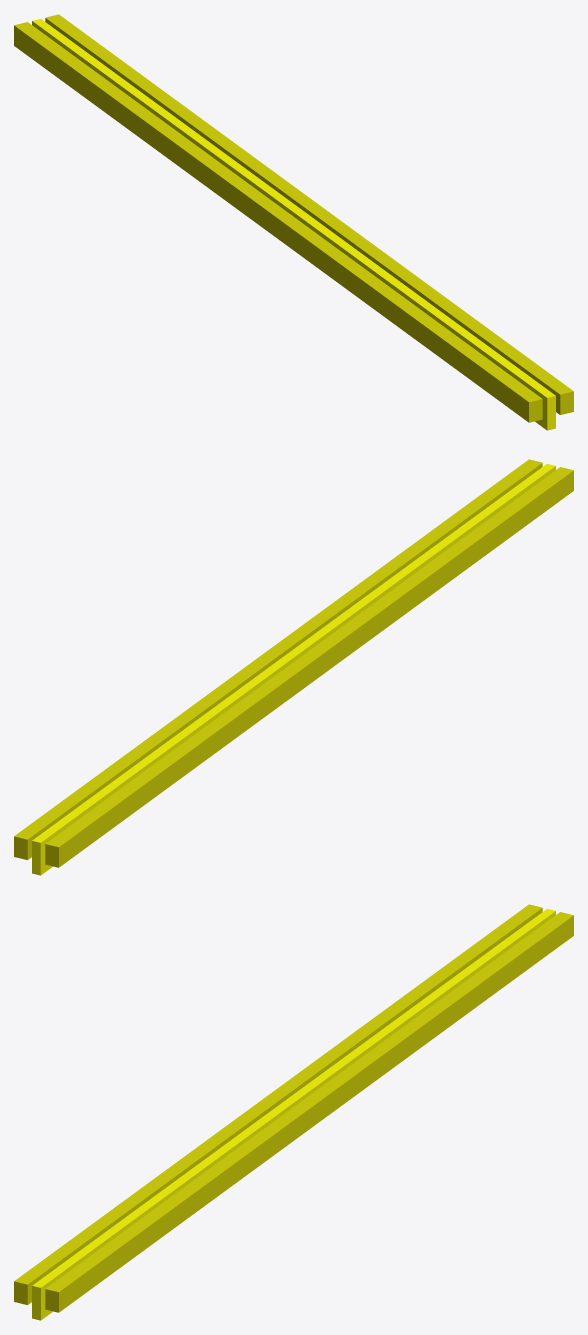
Rendered from BEAM_8008.glb.
3 renders of one model, top to bottom at view 1: azimuth 30°, elevation 25°; view 2: azimuth 150°, elevation 25°; view 3: azimuth 330°, elevation 25°, orthographic.
Parts seen in each view (by area): view 1: obj2, obj1; view 2: obj2, obj1; view 3: obj2, obj1.
Part boxes in pixels (box(x1,y1,x2,y2)): obj2: box(14, 14, 573, 422); obj1: box(32, 19, 555, 430); obj2: box(14, 459, 573, 867); obj1: box(32, 464, 555, 875); obj2: box(14, 904, 573, 1312); obj1: box(32, 908, 555, 1320).
Size of the model in its own units: 5.47 by 3.81 by 109.
